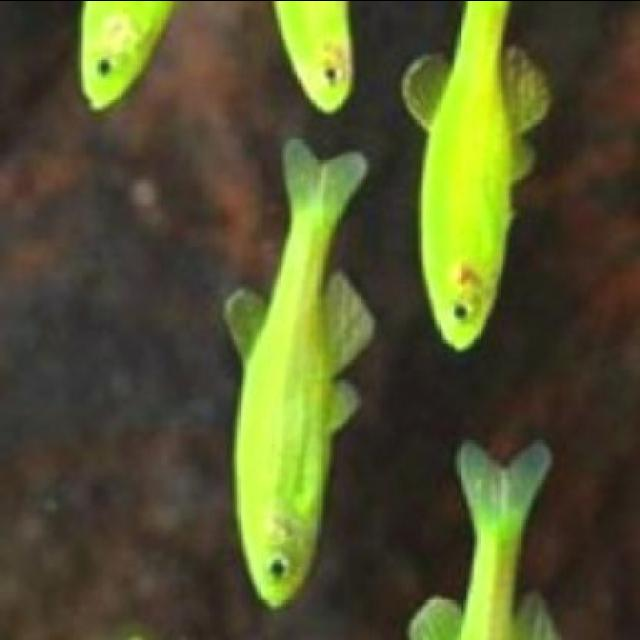ZebraFish: (221, 138, 367, 610), (398, 2, 546, 350)
